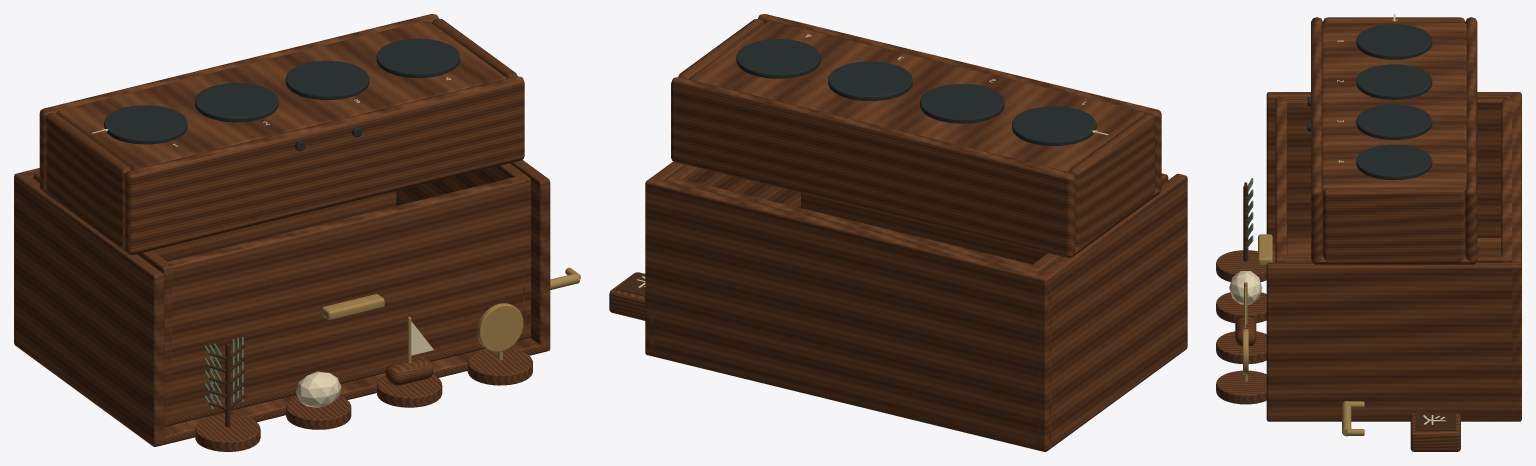
The model's file is P07_ObjectSequence.fbx.
3 renders of one model, left to right at view 1: azimuth 30°, elevation 25°; view 2: azimuth 150°, elevation 25°; view 3: azimuth 270°, elevation 25°, orthographic. The views are drawn at different scales.
Visible parts, largest first — view 1: SequenceRewardDrawer_End.002, Sequence cabinet_Front.001, Storage cabinet side.010, Sequence surface.001, Sequence cabinet_Side.002, Storage cabinet base.005, SequenceRewardDrawer_End.003, Storage cabinet side.011, Sequence cabinet_Back.001, Object well.005, Object well.007, Object well.004 (+14 smaller); view 2: Storage cabinet back.005, Sequence cabinet_Back.001, Storage cabinet side.010, Sequence surface.001, Sequence cabinet_Side.002, SequenceRewardDrawer_End.002, Sequence cabinet_Front.001, Storage cabinet base.005, Object well.007, Object well.005, Object well.006, Object well.004 (+6 smaller); view 3: Storage cabinet side.011, Sequence surface.001, Sequence cabinet_Side.003, SequenceRewardDrawer_Side.002, Sequence cabinet_Back.001, Storage cabinet back.005, Sequence cabinet_Front.001, Object well.005, Object well.004, Object well.007, Object well.006, SequenceRewardDrawer_End.002 (+17 smaller).
Part boxes in pixels (bbox=[...]): SequenceRewardDrawer_End.002: bbox=[159, 174, 530, 423]; Sequence cabinet_Front.001: bbox=[125, 76, 524, 255]; Storage cabinet side.010: bbox=[14, 173, 164, 444]; Sequence surface.001: bbox=[56, 21, 506, 169]; Sequence cabinet_Side.002: bbox=[46, 113, 131, 247]; Storage cabinet base.005: bbox=[14, 338, 550, 446]; SequenceRewardDrawer_End.003: bbox=[35, 172, 396, 261]; Storage cabinet side.011: bbox=[510, 160, 550, 350]; Sequence cabinet_Back.001: bbox=[39, 14, 438, 191]; Object well.005: bbox=[195, 83, 278, 122]; Object well.007: bbox=[376, 38, 460, 77]; Object well.004: bbox=[104, 105, 187, 144]; Storage cabinet back.005: bbox=[646, 178, 1051, 449]; Sequence cabinet_Back.001: bbox=[671, 77, 1075, 257]; Storage cabinet side.010: bbox=[1037, 173, 1187, 449]; Sequence surface.001: bbox=[689, 21, 1144, 171]; Sequence cabinet_Side.002: bbox=[1069, 114, 1154, 251]; SequenceRewardDrawer_End.002: bbox=[801, 173, 1167, 264]; Sequence cabinet_Front.001: bbox=[758, 14, 1161, 193]; Storage cabinet base.005: bbox=[645, 347, 1187, 451]; Object well.007: bbox=[736, 39, 820, 78]; Object well.005: bbox=[920, 84, 1004, 123]; Object well.006: bbox=[828, 61, 912, 100]; Object well.004: bbox=[1012, 106, 1096, 145]; Storage cabinet side.011: bbox=[1266, 262, 1521, 419]; Sequence surface.001: bbox=[1321, 23, 1466, 191]; Sequence cabinet_Side.003: bbox=[1323, 188, 1465, 264]; SequenceRewardDrawer_Side.002: bbox=[1275, 97, 1512, 237]; Sequence cabinet_Back.001: bbox=[1465, 17, 1477, 264]; Storage cabinet back.005: bbox=[1510, 92, 1521, 419]; Sequence cabinet_Front.001: bbox=[1311, 17, 1322, 263]; Object well.005: bbox=[1356, 64, 1432, 99]; Object well.004: bbox=[1356, 24, 1432, 59]; Object well.007: bbox=[1356, 144, 1432, 180]; Object well.006: bbox=[1356, 104, 1432, 139]; SequenceRewardDrawer_End.002: bbox=[1275, 97, 1287, 262].
Size of the model in its own units: 0.831 by 0.4404 by 0.515.
Materials: 7 (1 with a texture image).
